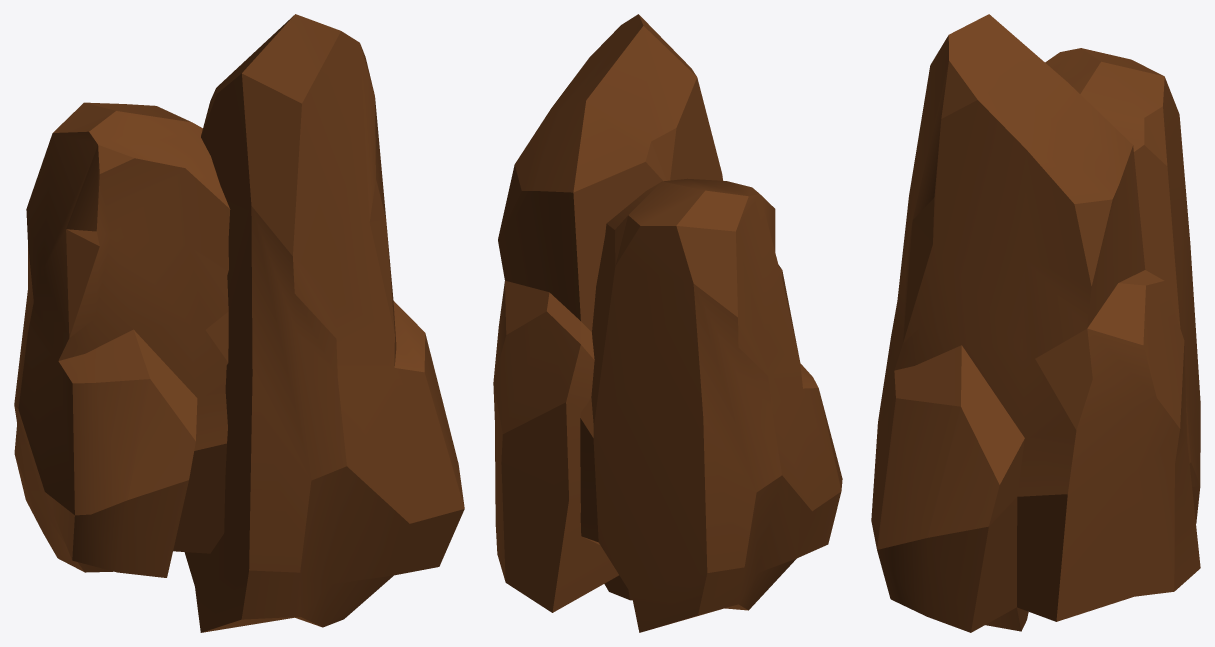
Rendered from rock-4.glb.
3 views of the same model, side by side, from view 1: azimuth 30°, elevation 25°; view 2: azimuth 150°, elevation 25°; view 3: azimuth 270°, elevation 25° (orthographic). The views are drawn at different scales.
Parts seen in each view (by area): view 1: Rock_4; view 2: Rock_4; view 3: Rock_4.
Boxes of the visible parts, x1,y1,x2,y2 form: Rock_4: [14, 14, 464, 632]; Rock_4: [493, 14, 842, 632]; Rock_4: [871, 14, 1200, 632].
Size of the model in its own units: 2.16 by 3.46 by 1.7.
